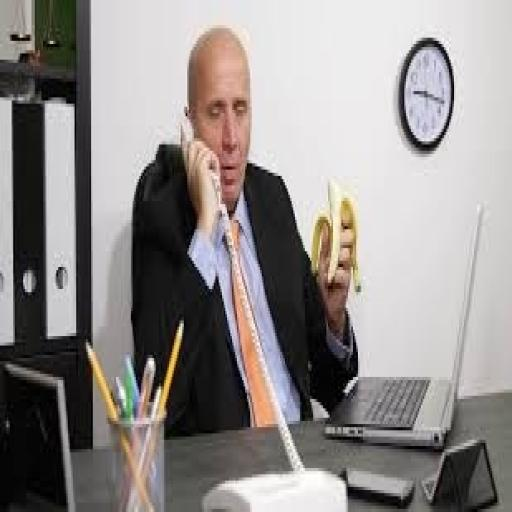eating: (128, 22, 360, 433)
